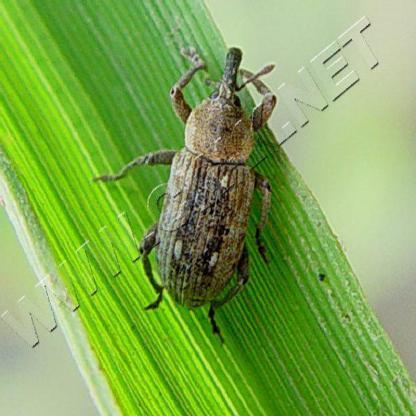rice-bug: (124, 46, 284, 322)
